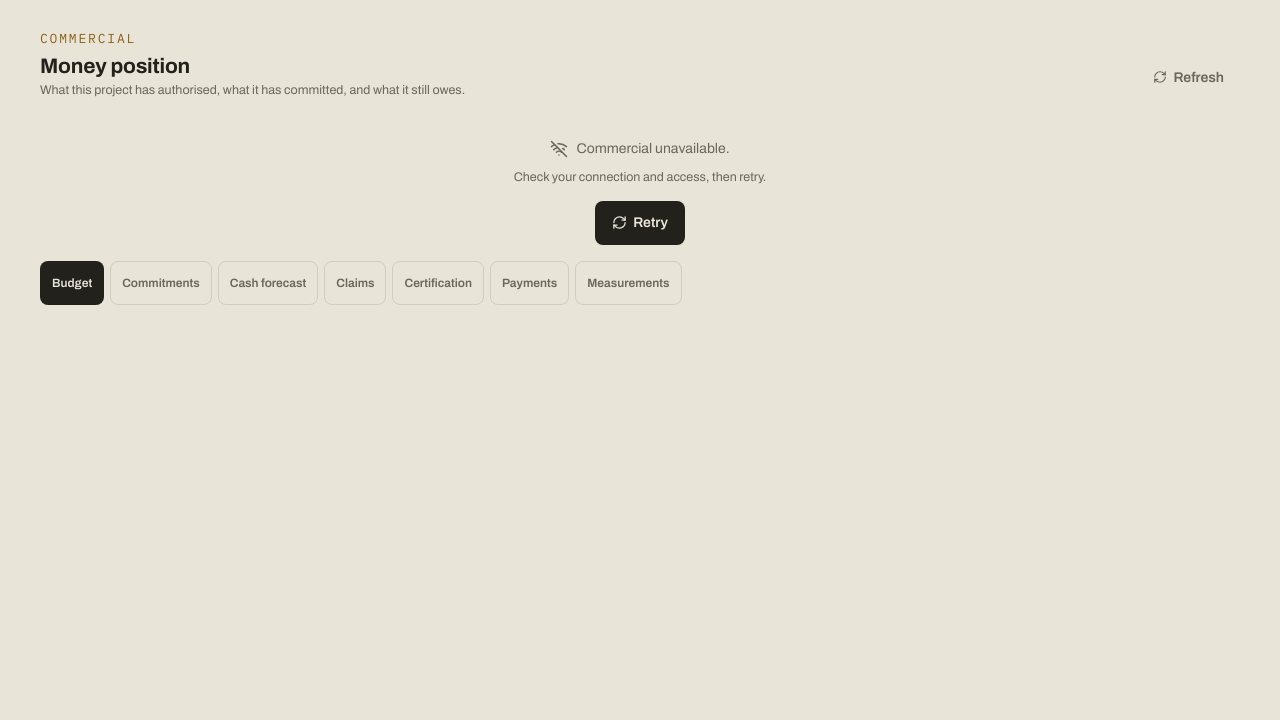
Task 7B-ii (§M) — the rendered claim tabs never dereference an absent claim › H2: the claim workflow works when the MONEY bundle failed
Click the button with test id "commercial-tab-claims" at [355, 283], box [324,261,386,305]
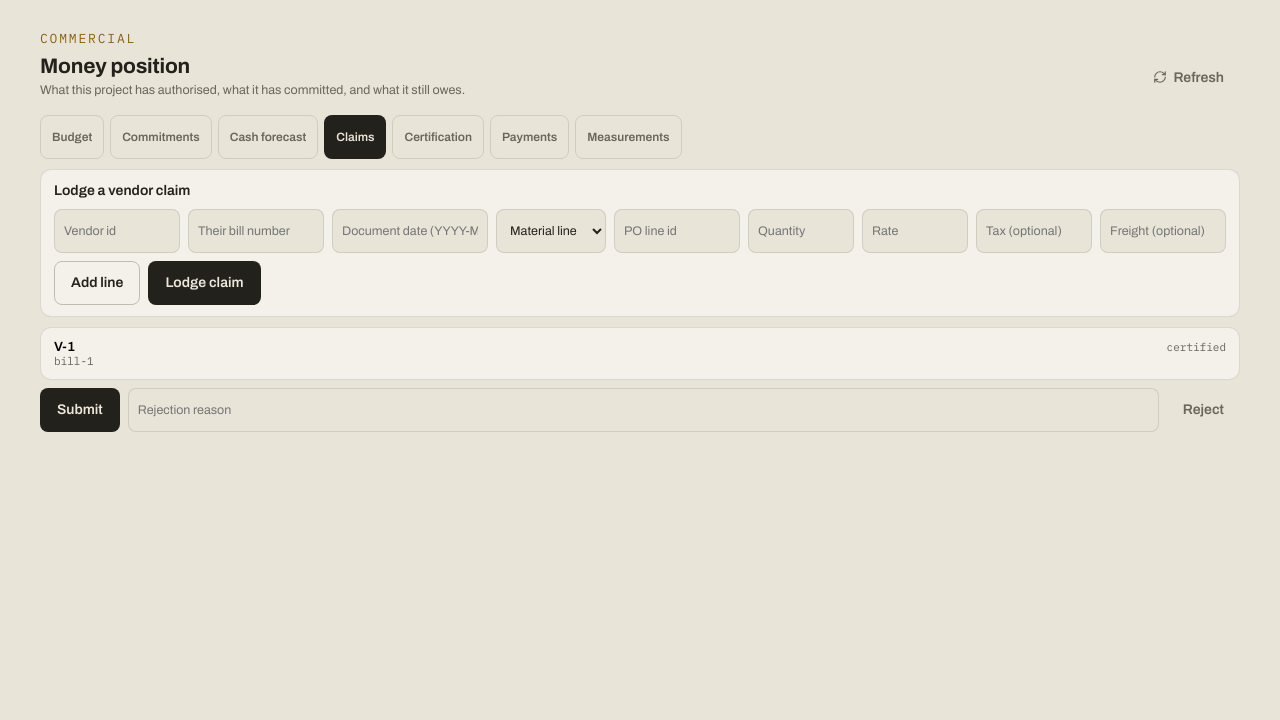
Click the button with test id "commercial-claim-row-bill-1" at [1196, 347], box [40,327,1240,380]
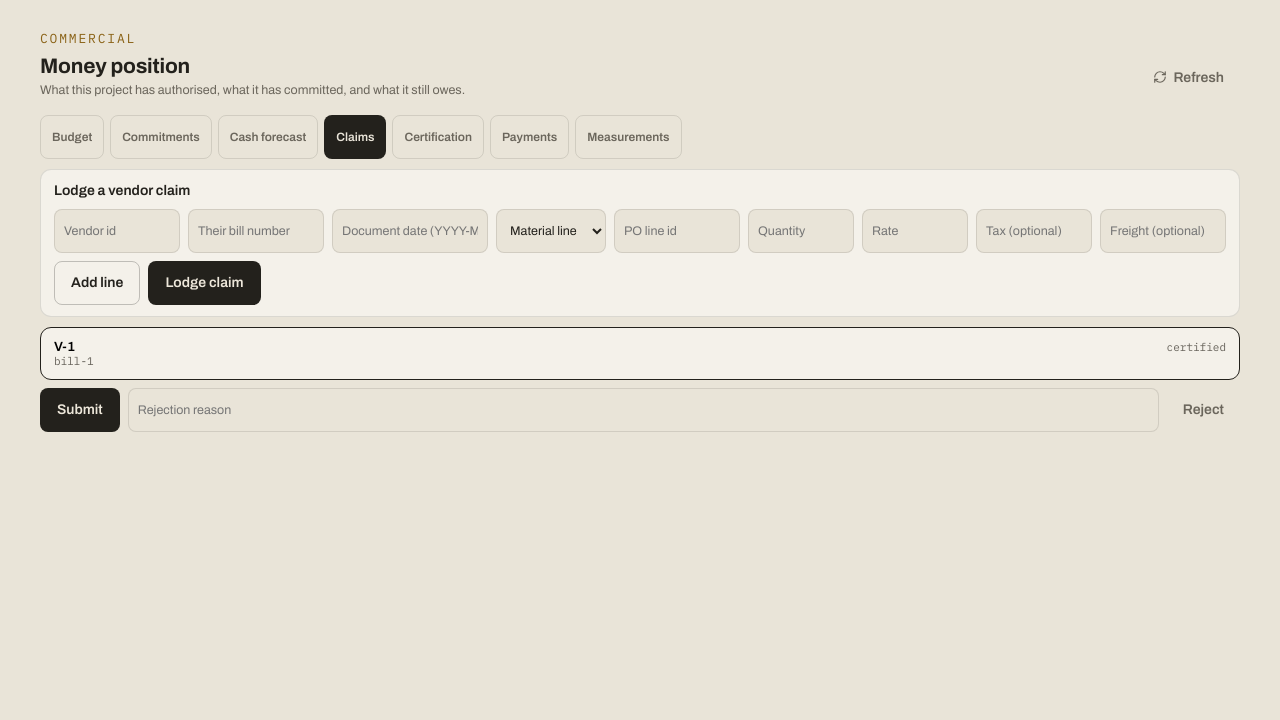
Click the button with test id "commercial-tab-certification" at [438, 137], box [392,115,484,159]
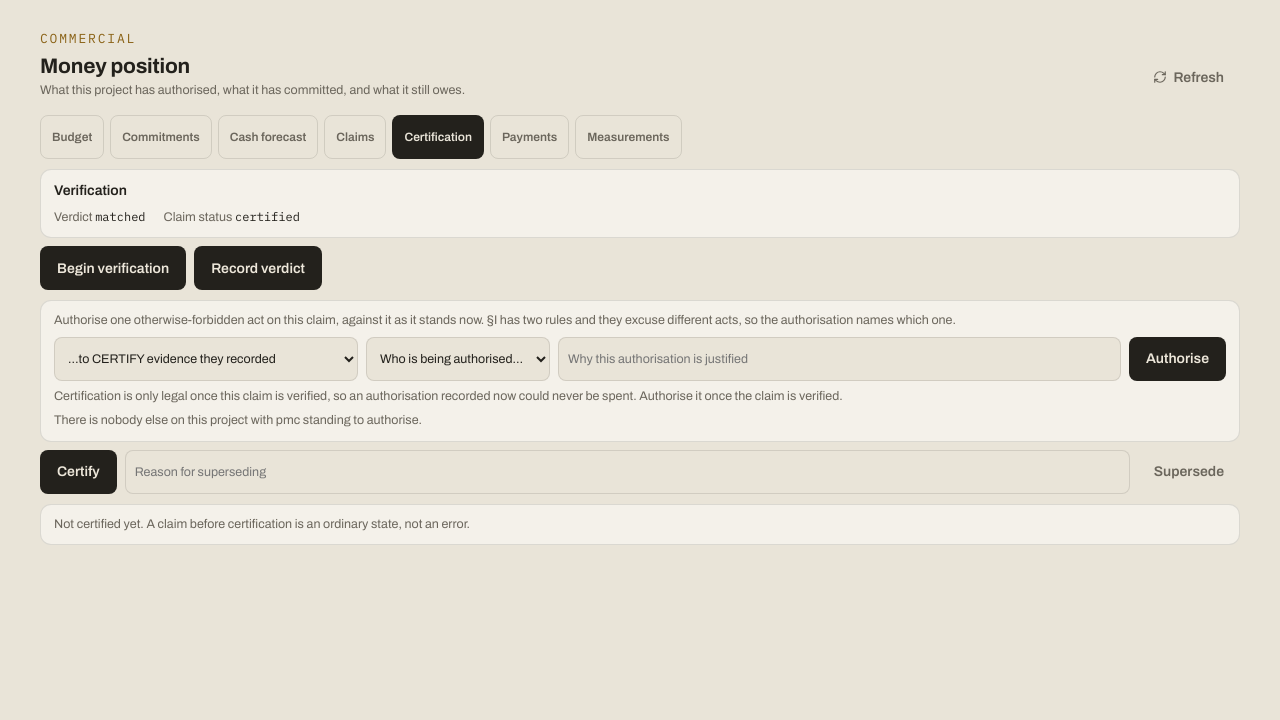
expect the text with test id "verification-verdict" reads "matched": met, box [95,209,146,224]
# …and the money tab still reports its own failure honestly
Click the button with test id "commercial-tab-position" at [72, 137], box [40,115,104,159]
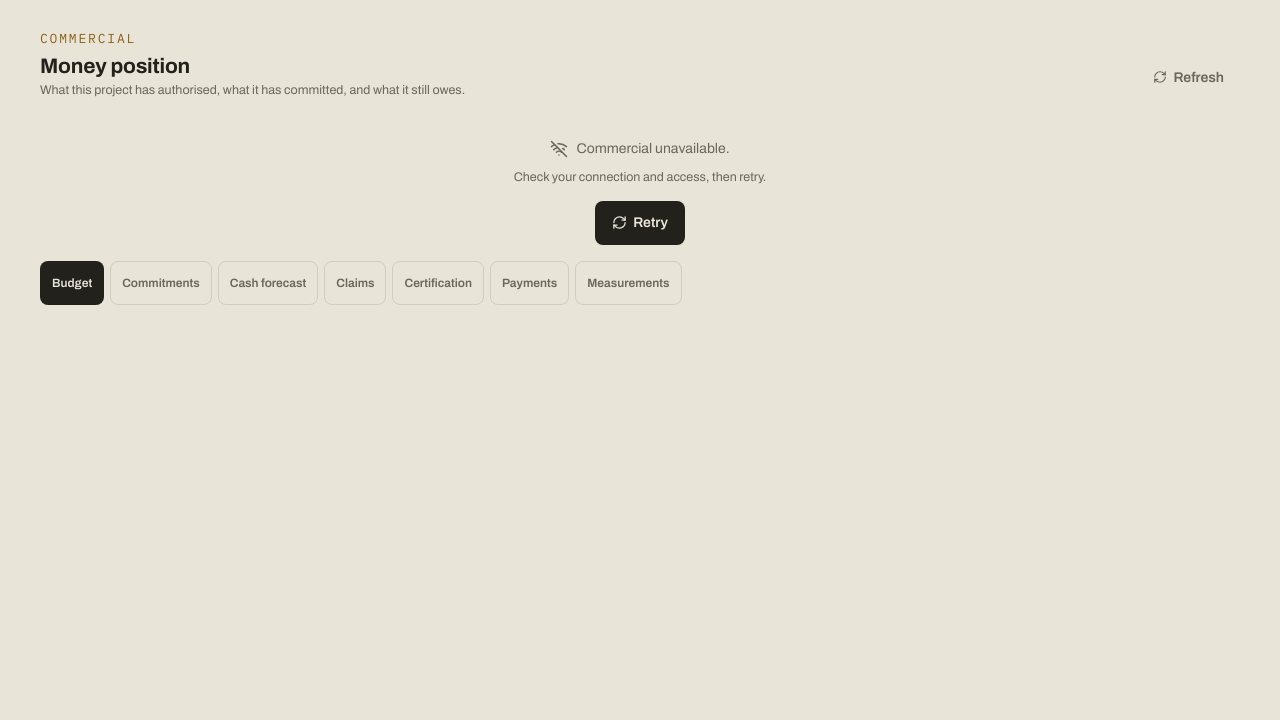
expect the element with test id "commercial-unavailable" is shown: met, box [514,140,766,245]
